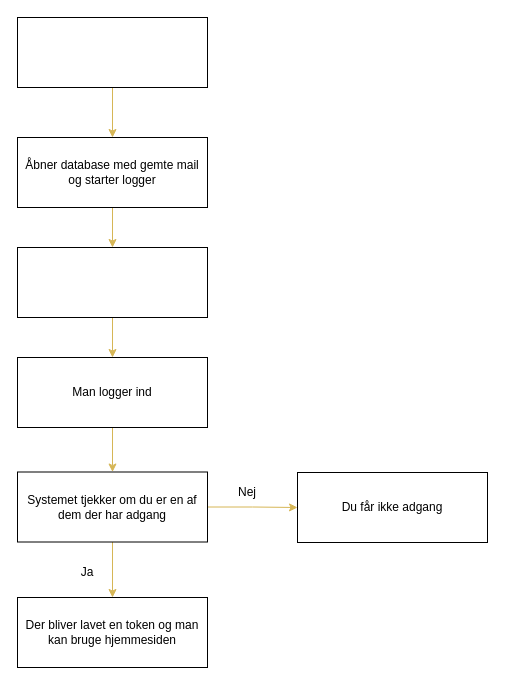
This 505x685 diagram has some shape labels left out. The box of each missing label's shape, as (x1, y1, x2, y2) in pixels:
Går ind på hjemmesiden: (16, 16, 208, 88)
Systemet tjekker hvilke brugeren har adgang: (16, 246, 208, 318)
